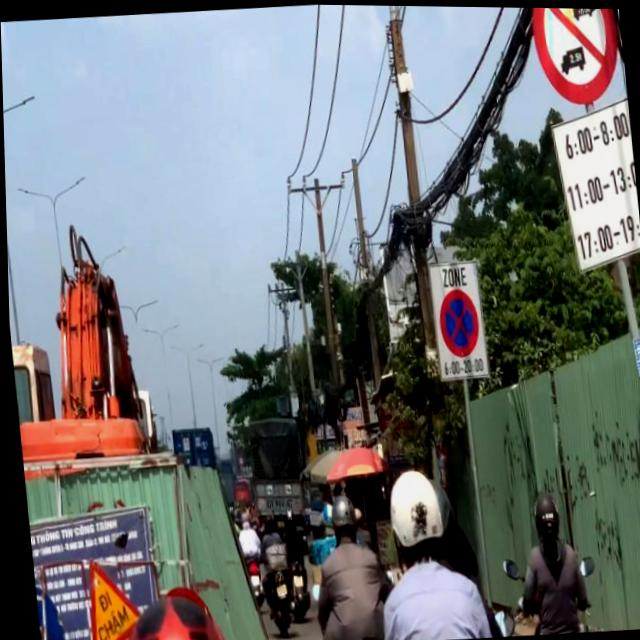Cam dung xe va do xe: (432, 283, 481, 359)
Di cham: (74, 573, 130, 640)
